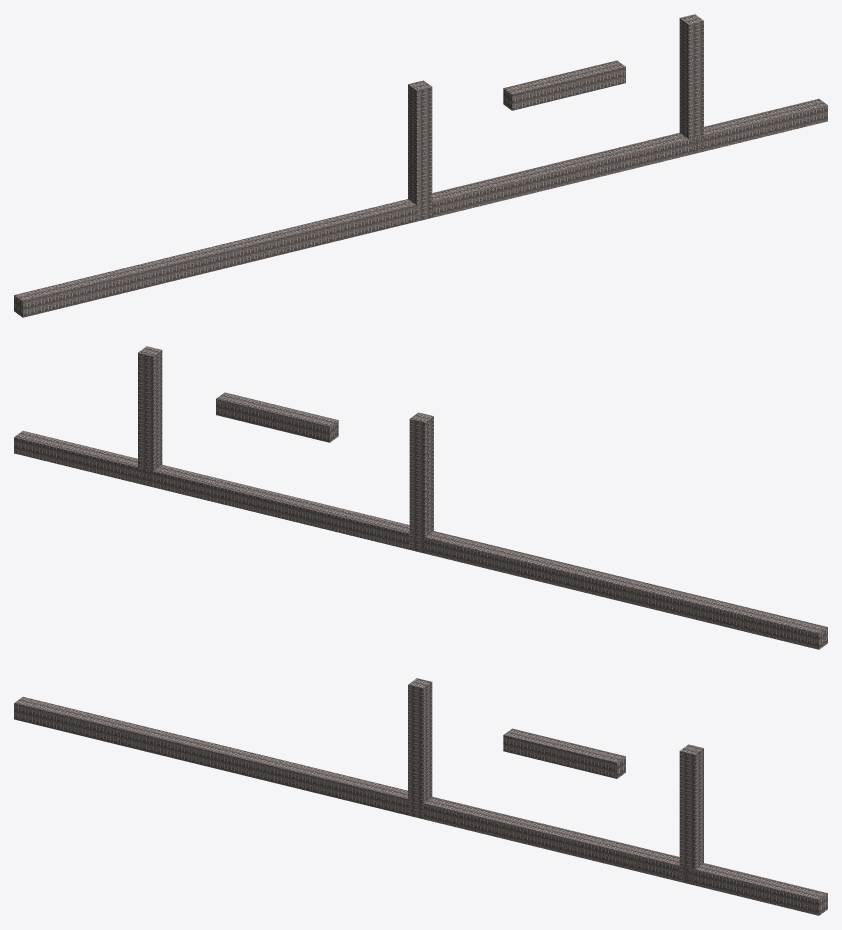
File: map2.gltf
The picture shows the model from 3 angles, top to bottom: view 1: azimuth 30°, elevation 25°; view 2: azimuth 150°, elevation 25°; view 3: azimuth 330°, elevation 25°; orthographic projection.
Visible parts, largest first — view 1: Cube; view 2: Cube; view 3: Cube.
Part boxes in pixels (x1,y1,x2,y2): Cube: [14, 14, 827, 317]; Cube: [14, 346, 827, 649]; Cube: [14, 678, 827, 915].
Size of the model in its own units: 104 by 16.19 by 2.
1 material, 1 textured.
